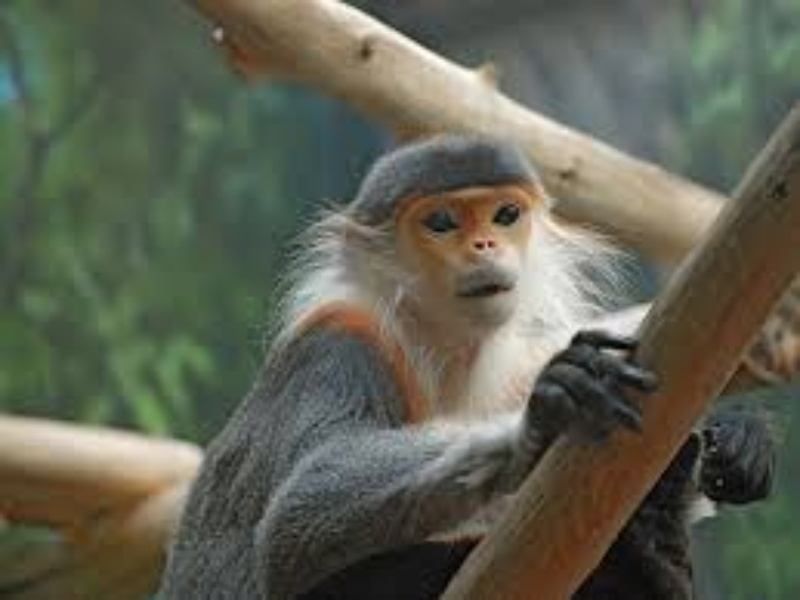monkey: (133, 127, 771, 589)
